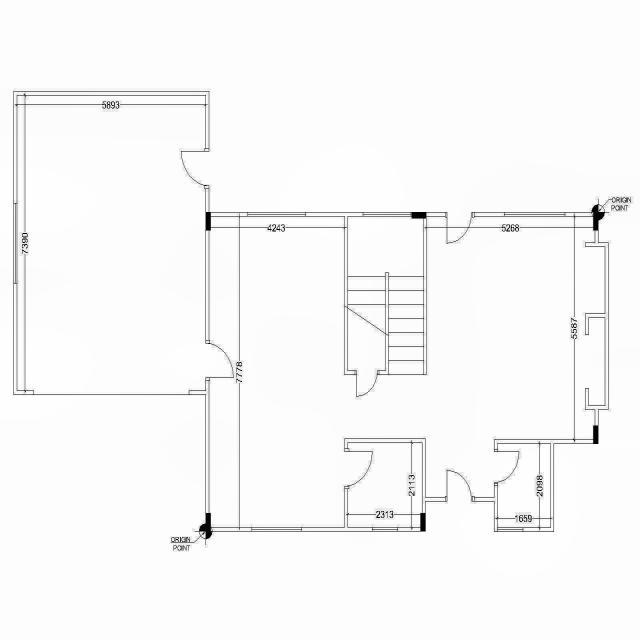Column: (420, 512, 426, 532), (206, 212, 211, 230), (412, 212, 426, 218), (206, 512, 210, 532), (594, 426, 598, 444), (594, 212, 598, 230)
Door: (180, 147, 211, 190), (204, 338, 234, 382), (344, 448, 374, 490), (444, 210, 476, 246), (444, 468, 475, 503), (493, 448, 520, 488), (354, 370, 380, 398)
Staircase: (343, 225, 428, 377)
Window: (12, 202, 18, 285), (247, 211, 307, 218), (251, 526, 303, 532), (503, 212, 566, 216), (362, 212, 412, 216), (496, 526, 524, 532), (372, 526, 398, 532)
